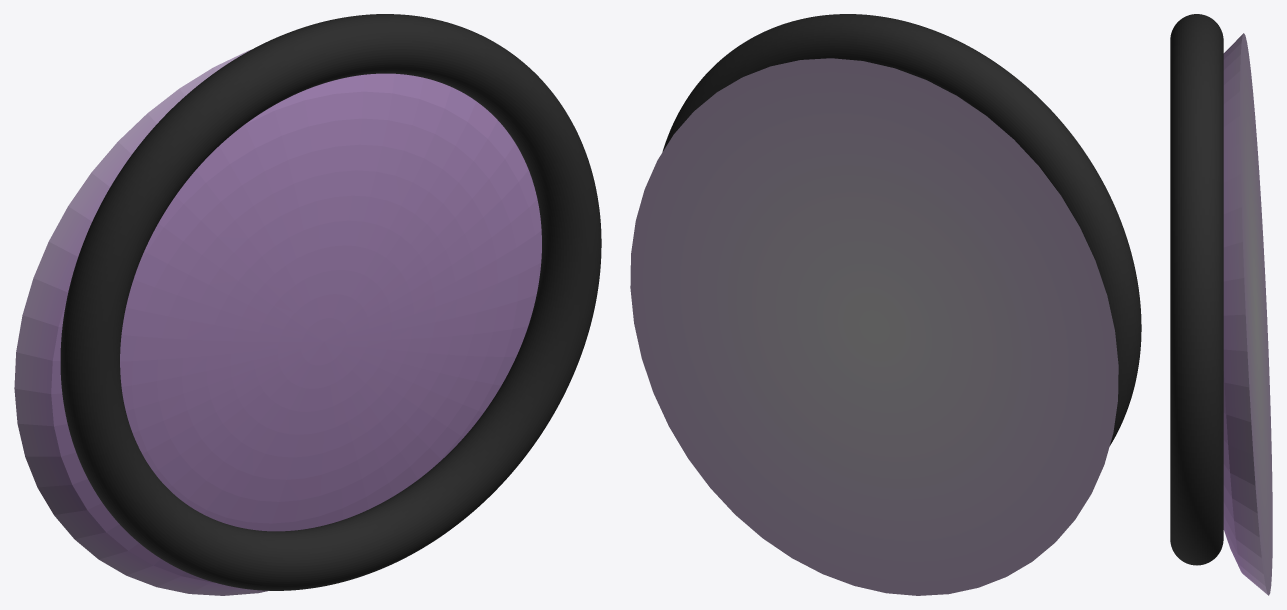
3 views of the same model, side by side, from view 1: azimuth 30°, elevation 25°; view 2: azimuth 150°, elevation 25°; view 3: azimuth 270°, elevation 25° (orthographic). The views are drawn at different scales.
Parts seen in each view (by area): view 1: actual014_body_inferred_base_gray, fixed_CAD_Ring; view 2: actual014_body_inferred_base_gray, fixed_CAD_Ring; view 3: fixed_CAD_Ring, actual014_body_inferred_base_gray.
Boxes of the visible parts, x1,y1,x2,y2 form: actual014_body_inferred_base_gray: (14, 49, 541, 595); fixed_CAD_Ring: (60, 14, 601, 590); actual014_body_inferred_base_gray: (630, 58, 1118, 595); fixed_CAD_Ring: (662, 14, 1141, 445); fixed_CAD_Ring: (1170, 14, 1223, 565); actual014_body_inferred_base_gray: (1223, 33, 1272, 595).
Size of the model in its own units: 0.0127 by 0.0132 by 0.00231.
